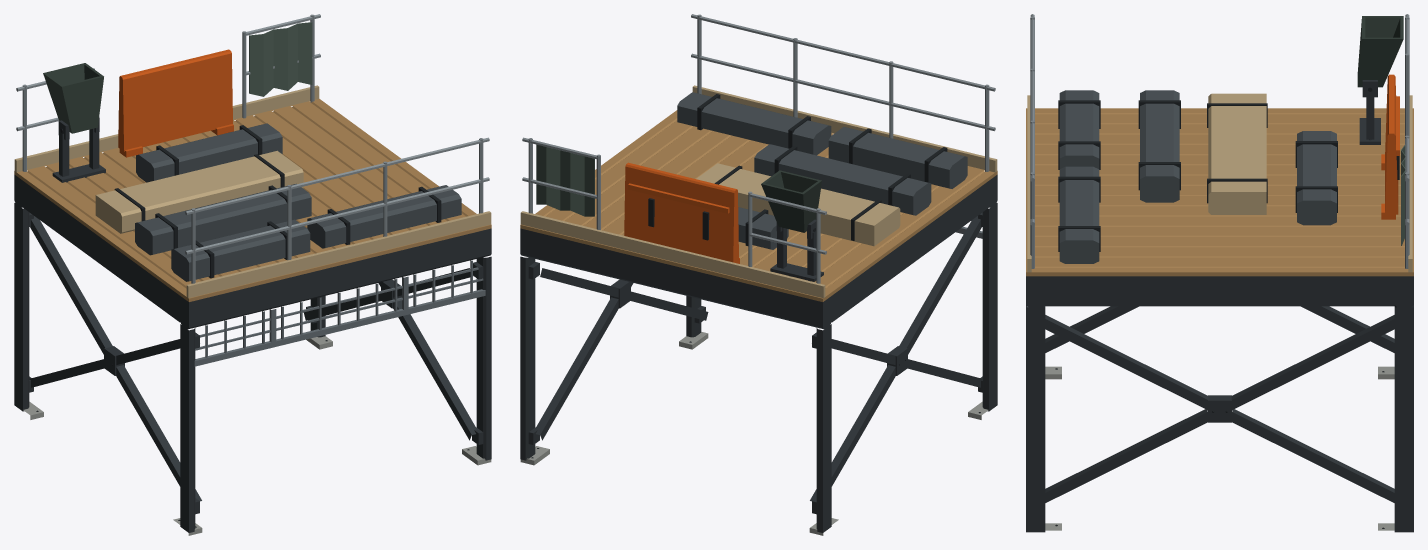
Rendered from loading-gantry-34460f.glb.
3 renders of one model, left to right at view 1: azimuth 30°, elevation 25°; view 2: azimuth 150°, elevation 25°; view 3: azimuth 270°, elevation 25°, orthographic. The views are drawn at different scales.
Visible parts, largest first — view 1: gantry-bay, hurdle-body, net-panel, chute-body; view 2: gantry-bay, hurdle-body, net-panel, chute-body; view 3: gantry-bay, chute-body, hurdle-body.
Part boxes in pixels (x1=…): gantry-bay: x1=14, y1=14, x2=491, y2=535; hurdle-body: x1=118, y1=49, x2=233, y2=157; net-panel: x1=249, y1=22, x2=312, y2=96; chute-body: x1=43, y1=63, x2=103, y2=140; gantry-bay: x1=520, y1=14, x2=997, y2=535; hurdle-body: x1=624, y1=162, x2=739, y2=263; net-panel: x1=536, y1=144, x2=594, y2=216; chute-body: x1=761, y1=170, x2=821, y2=239; gantry-bay: x1=1026, y1=14, x2=1413, y2=532; chute-body: x1=1357, y1=16, x2=1403, y2=97; hurdle-body: x1=1381, y1=74, x2=1399, y2=219.
Bounding box in the file's own units: 4 × 4.2 × 4.
